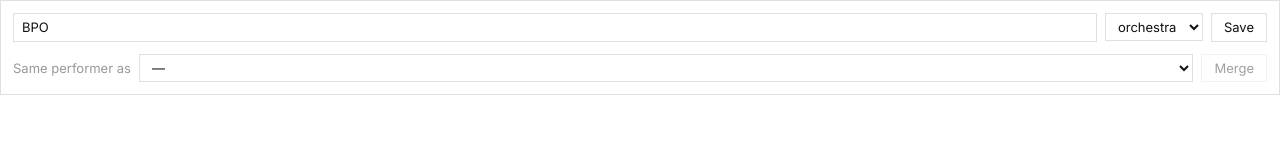
Test: PerformerEditor › shows why saving failed
Click the button "Save" at {"x": 1239, "y": 27}, box [1211, 13, 1267, 42]
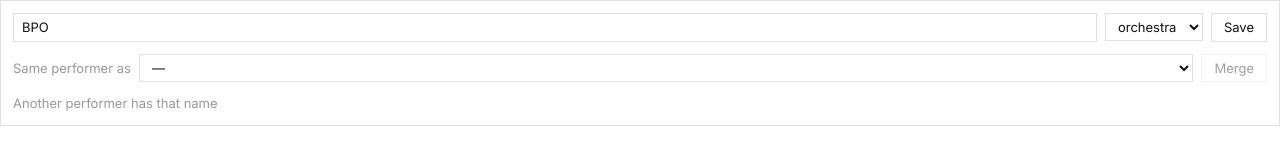
expect the text "Another performer has that name" is shown: met, box [13, 95, 218, 111]
